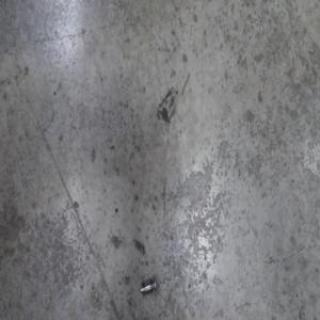Bolttrack_idkeyframe: (139, 276, 157, 298)
